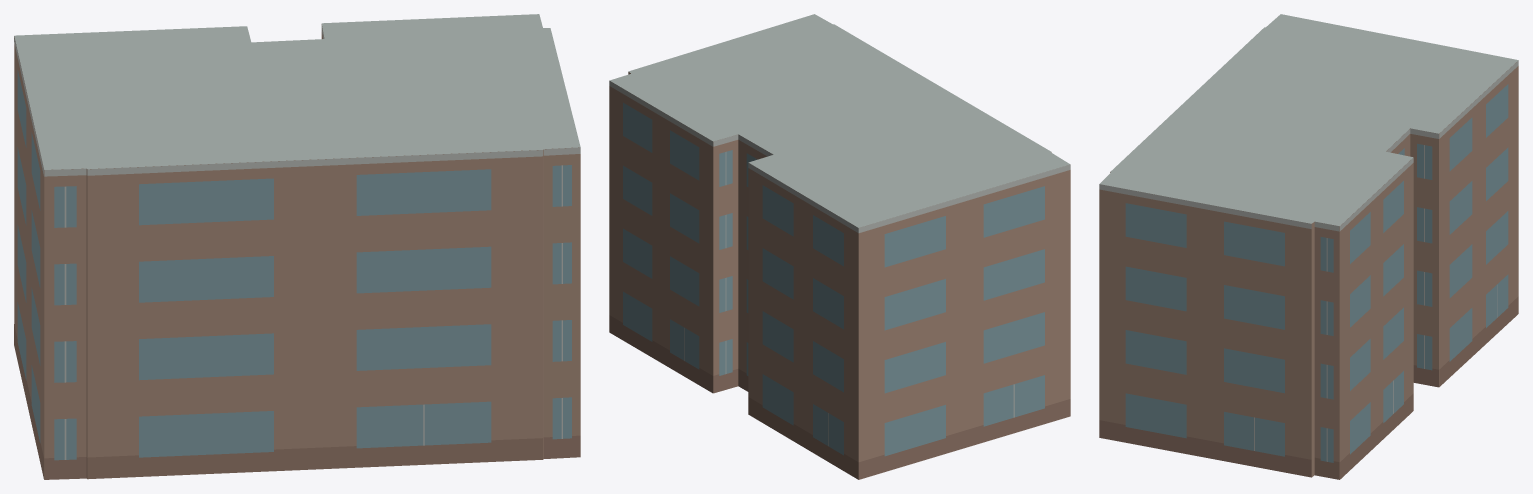
The model's file is survey-upis-32659170.glb.
3 renders of one model, left to right at view 1: azimuth 30°, elevation 25°; view 2: azimuth 150°, elevation 25°; view 3: azimuth 270°, elevation 25°, orthographic. The views are drawn at different scales.
Visible parts, largest first — view 1: survey-upis-32659170.tmp; view 2: survey-upis-32659170.tmp; view 3: survey-upis-32659170.tmp.
Part boxes in pixels (x1=…): survey-upis-32659170.tmp: x1=14, y1=14, x2=580, y2=479; survey-upis-32659170.tmp: x1=609, y1=14, x2=1070, y2=479; survey-upis-32659170.tmp: x1=1099, y1=14, x2=1518, y2=479.
Bounding box in the file's own units: 20.64 × 11.5 × 17.24.
